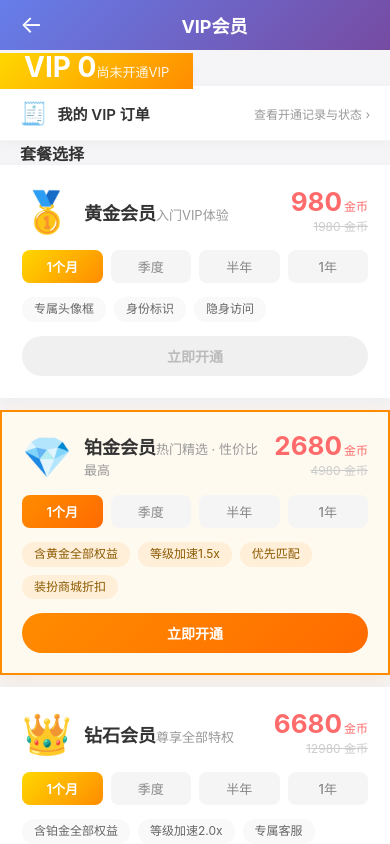
VipCenter VIP 订单记录 › 订单列表失败静默：弹层回落空态且不弹错误提示
Click the element with class "orders-entry". click: click(195, 114)
box: [0,86,389,141]
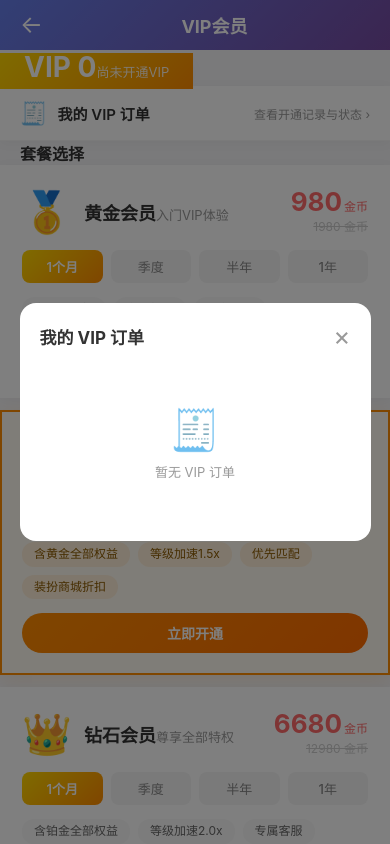
Now the text "暂无 VIP 订单" is shown, box [155,462,235,481]
